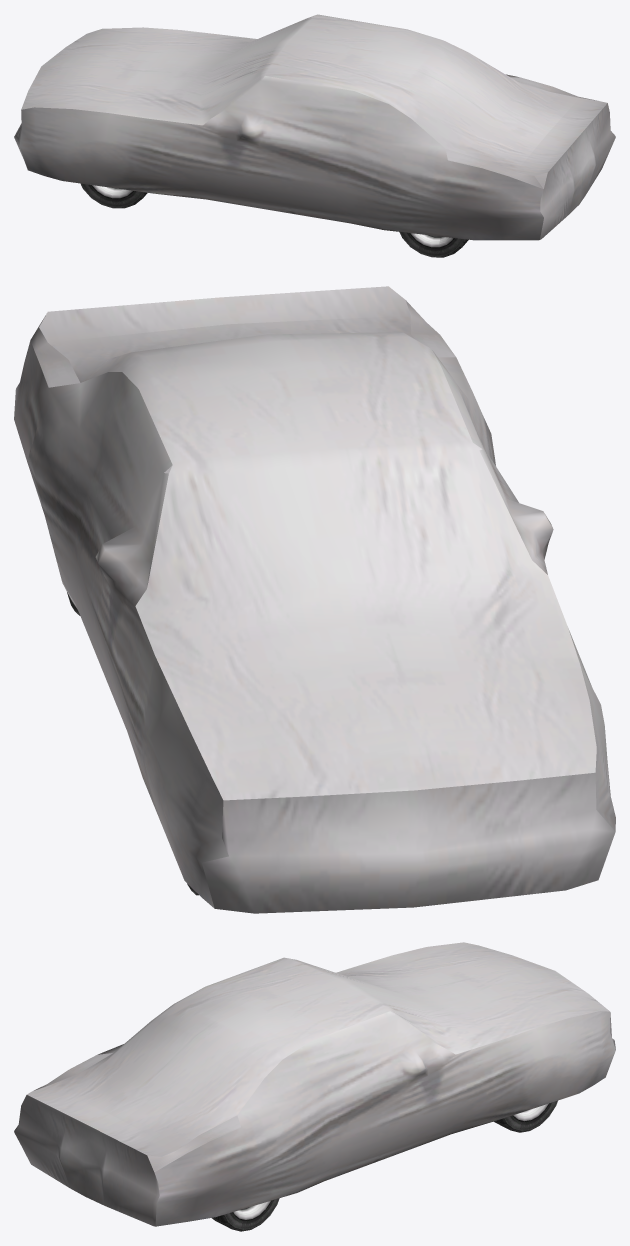
The model's file is car.fbx.
3 renders of one model, top to bottom at view 1: azimuth 30°, elevation 25°; view 2: azimuth 150°, elevation 25°; view 3: azimuth 270°, elevation 25°, orthographic. The views are drawn at different scales.
Parts seen in each view (by area): view 1: Mesh_0126; view 2: Mesh_0126; view 3: Mesh_0126.
Part boxes in pixels (x1,y1,x2,y2): Mesh_0126: (14, 14, 615, 257); Mesh_0126: (14, 286, 615, 913); Mesh_0126: (14, 942, 615, 1231).
Size of the model in its own units: 4219 by 1365 by 4566.
